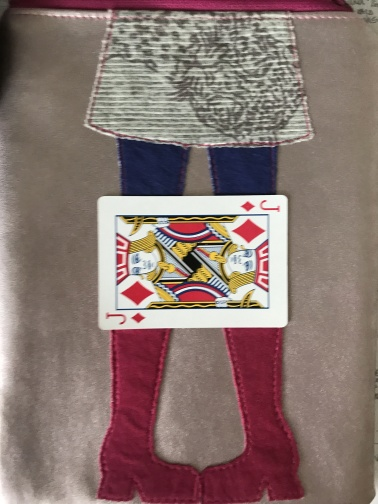jack: (96, 194, 289, 332)
